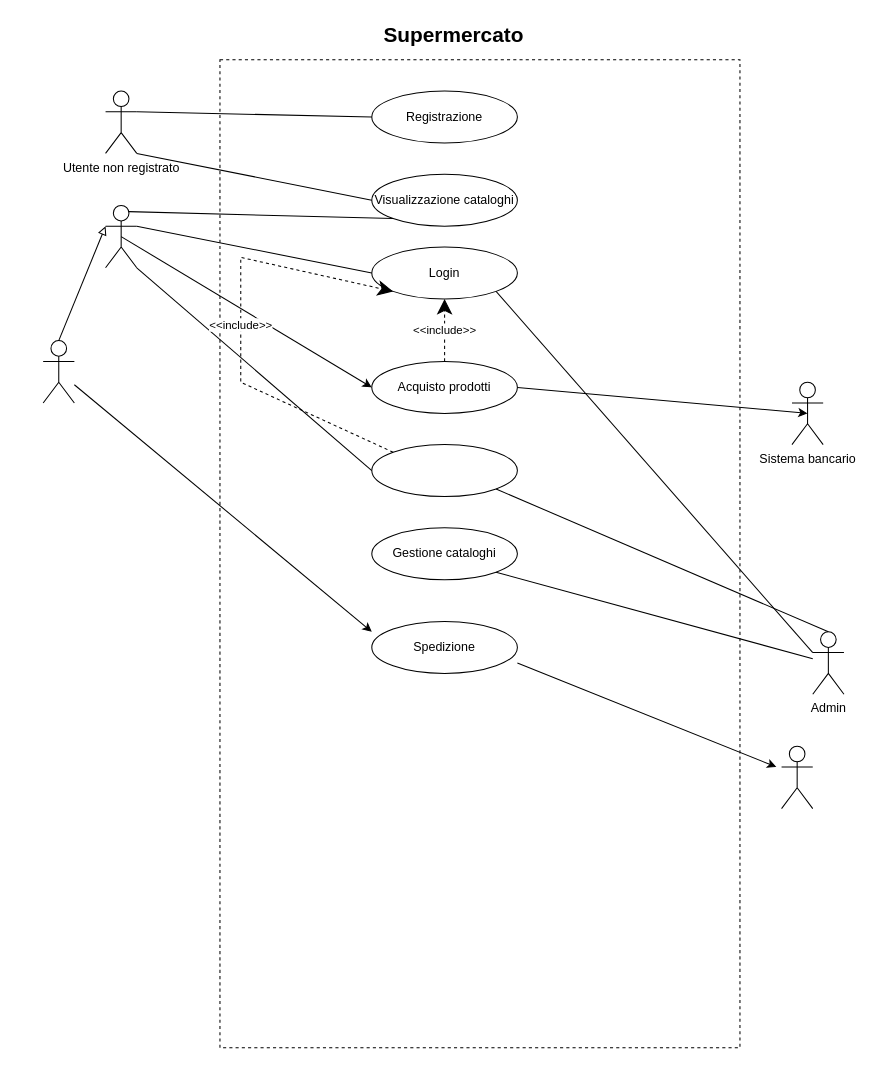
Image size: 874x1066. Some labels were removed from this diagram. The centre of each missing label's shape, as x and y in pixels:
"Gestione account" belongs at point (444, 470).
"Sistema spedizione" belongs at point (797, 777).
"Utente over 75" belongs at point (58, 371).
"Utente registrato" belongs at point (121, 236).
